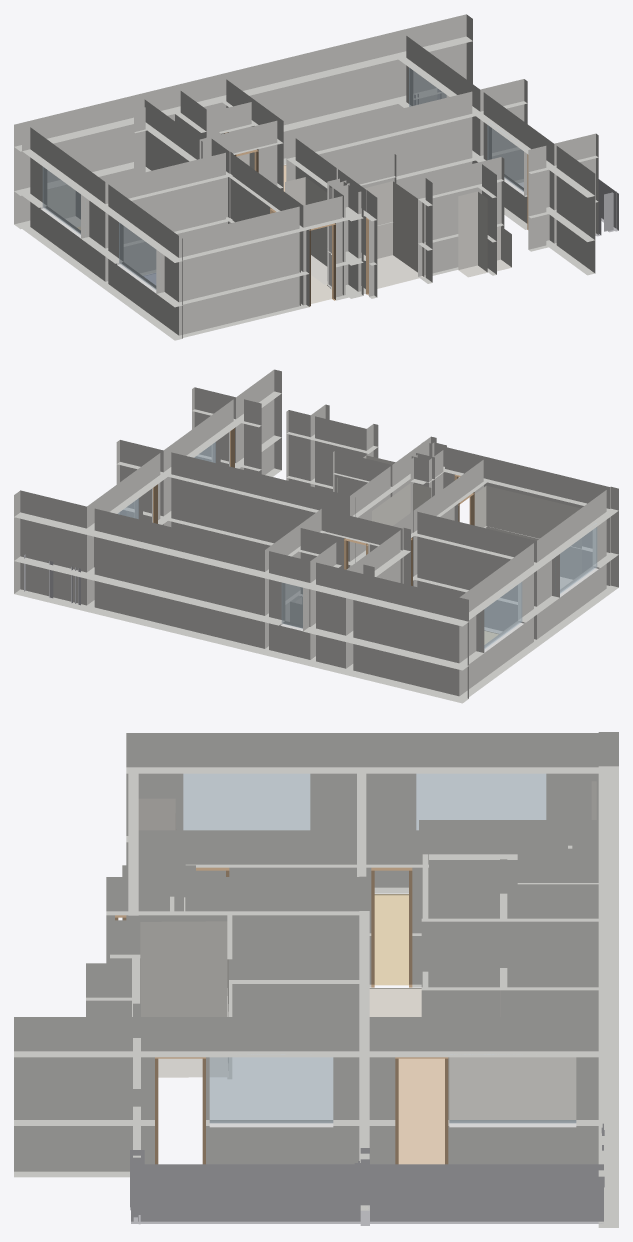
3 renders of one model, top to bottom at view 1: azimuth 30°, elevation 25°; view 2: azimuth 150°, elevation 25°; view 3: azimuth 270°, elevation 25°, orthographic. The views are drawn at different scales.
Visible parts, largest first — view 1: walls, furniture_3_closet, furniture_5_closet, furniture_2_closet, window_5, window_4, window_8, railings, furniture_6_appliance, window_0, furniture_10_appliance, door_7; view 2: walls, furniture_4_closet, window_5, window_4, furniture_2_closet, window_2, railings; view 3: walls, railings, floor_3_Living_Room, furniture_3_closet, window_0, window_8, window_4, window_5, floor_0_Kitchen, floor_4_Entry, furniture_4_closet, door_10 (+4 smaller).
Part boxes in pixels (box(x1,y1,x2,y2)): walls: box(14, 14, 598, 340); furniture_3_closet: box(365, 181, 424, 288); furniture_5_closet: box(458, 191, 487, 277); furniture_2_closet: box(285, 177, 327, 284); window_5: box(42, 167, 85, 234); window_4: box(119, 222, 160, 289); window_8: box(487, 122, 523, 191); railings: box(414, 89, 618, 236); furniture_6_appliance: box(47, 185, 80, 227); window_0: box(409, 67, 446, 106); furniture_10_appliance: box(497, 226, 511, 271); door_7: box(309, 223, 335, 306); walls: box(14, 369, 618, 703); furniture_4_closet: box(474, 485, 581, 588); window_5: box(480, 582, 522, 649); window_4: box(555, 523, 597, 594); furniture_2_closet: box(372, 483, 431, 525); window_2: box(281, 582, 302, 628); railings: box(24, 510, 126, 605); walls: box(14, 732, 618, 1227); railings: box(130, 1123, 604, 1225); floor_3_Living_Room: box(398, 1057, 575, 1164); furniture_3_closet: box(140, 921, 228, 1077); window_0: box(449, 1054, 576, 1123); window_8: box(209, 1054, 333, 1123); window_4: box(183, 773, 310, 830); window_5: box(416, 773, 546, 830); floor_0_Kitchen: box(374, 894, 408, 985); floor_4_Entry: box(369, 988, 421, 1016); furniture_4_closet: box(138, 798, 176, 830); door_10: box(371, 867, 412, 987).
Size of the model in its own units: 12.81 by 2.72 by 9.59.
